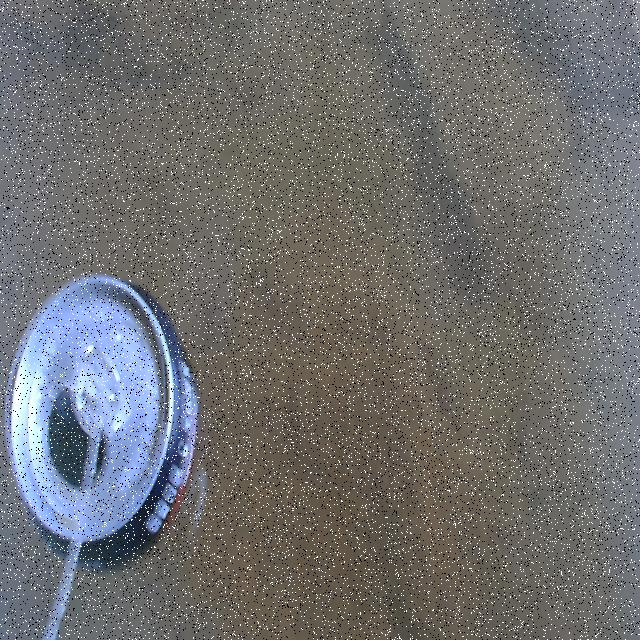Can: (5, 262, 199, 563)
